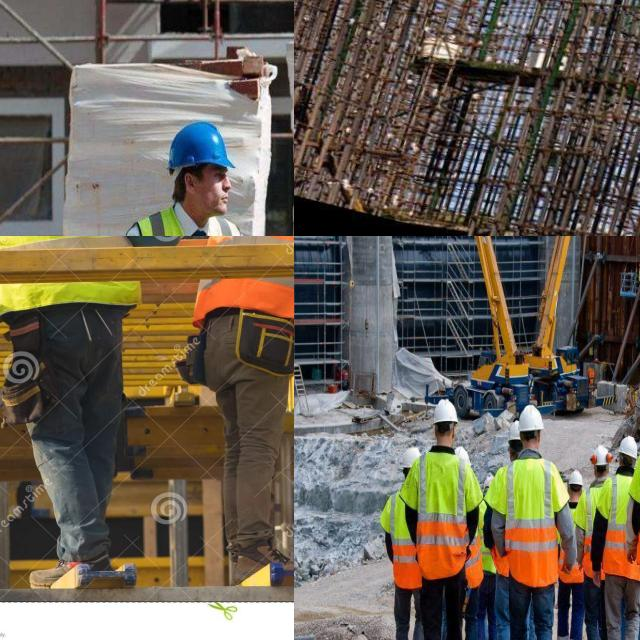face_nomask: (200, 166, 233, 221)
head_helmet: (156, 114, 240, 178), (519, 403, 545, 435), (432, 399, 458, 426), (591, 446, 614, 470), (618, 435, 638, 461), (402, 446, 422, 470), (567, 470, 583, 488), (454, 446, 470, 461), (508, 421, 520, 440)
person: (0, 236, 137, 579), (220, 236, 294, 533), (115, 118, 242, 236), (417, 399, 475, 640), (506, 406, 562, 640), (595, 435, 640, 640), (386, 447, 426, 640), (557, 470, 587, 640), (477, 474, 500, 640)
vest: (0, 236, 146, 305), (502, 456, 562, 584), (410, 453, 471, 571), (223, 236, 294, 323), (601, 472, 639, 581), (380, 490, 422, 588), (580, 487, 605, 580)
